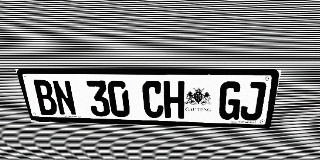0: (106, 80, 130, 117)
3: (86, 80, 111, 117)
B: (31, 80, 59, 115)
C: (142, 81, 164, 118)
G: (218, 81, 243, 120)
H: (163, 81, 185, 119)
J: (239, 82, 267, 120)
N: (51, 80, 78, 116)
